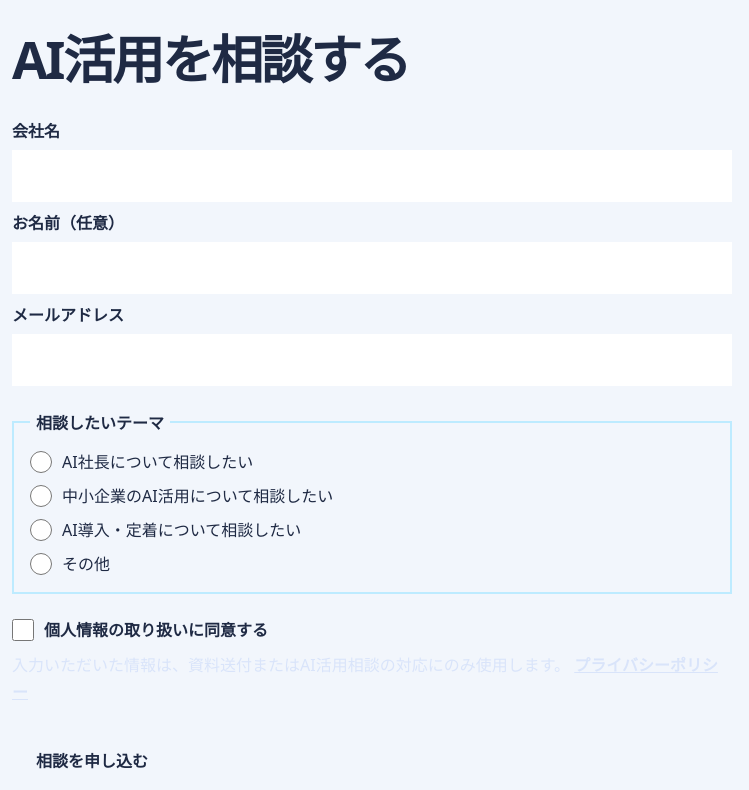
Test case: LeadForm truthful GAS states › keeps local field errors accessible and focuses the first invalid control
(page scrolled)
Click the button "相談を申し込む": (92, 760) [12,730,172,789]
(page scrolled)
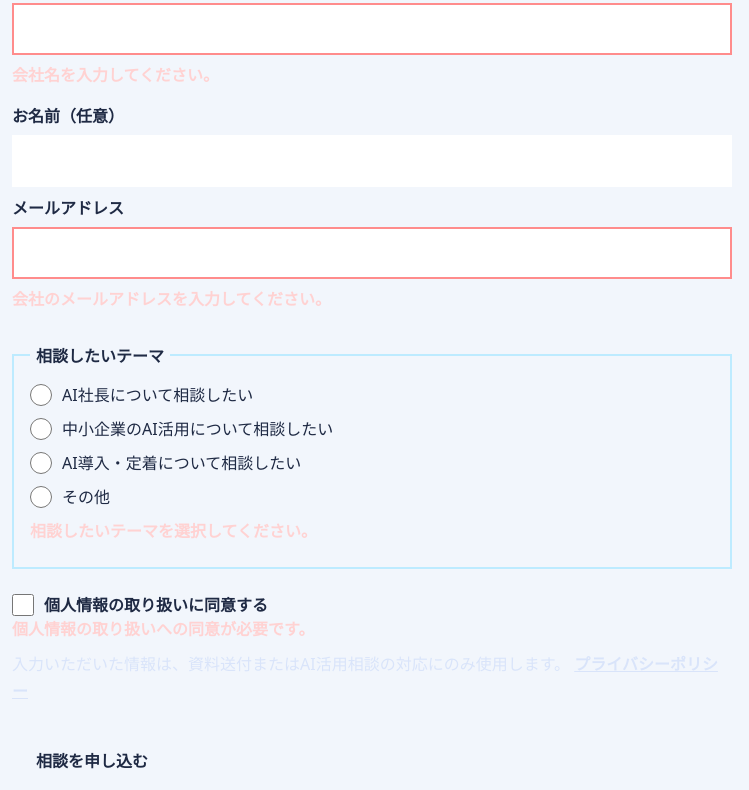
Result: the text "会社名を入力してください。" is shown at [12,64,219,86]
